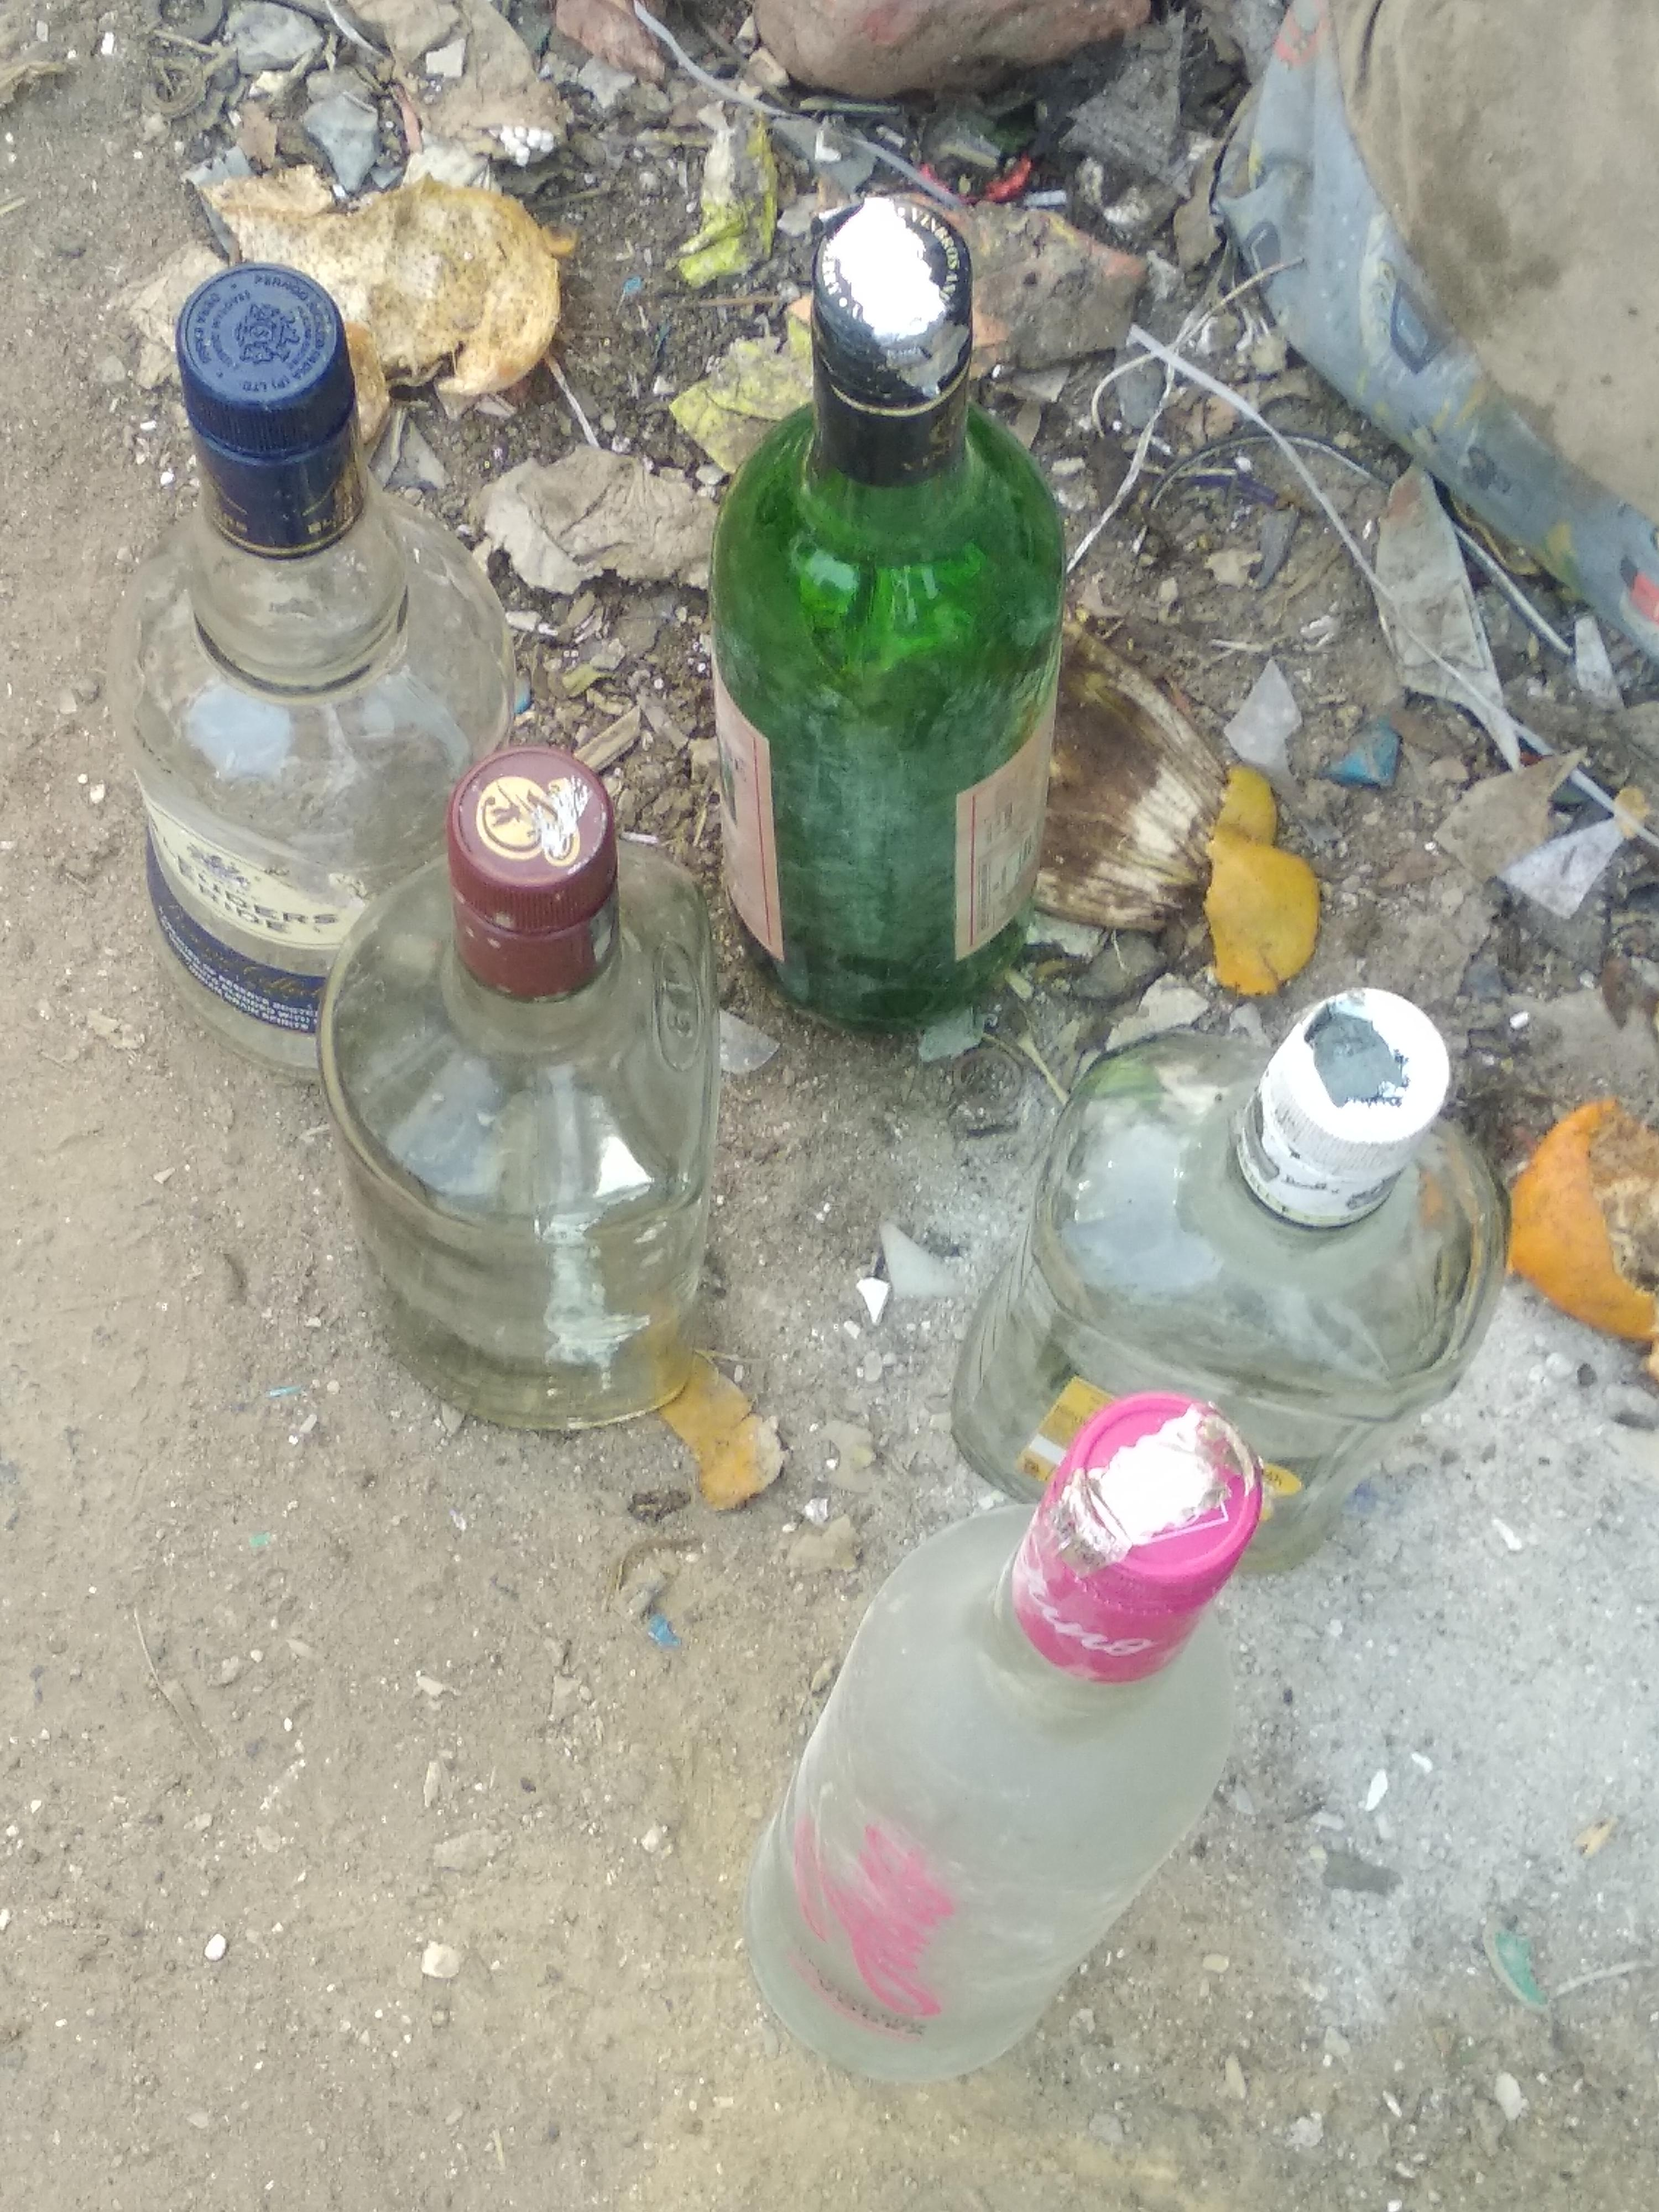trash: (115, 185, 1542, 2120)
